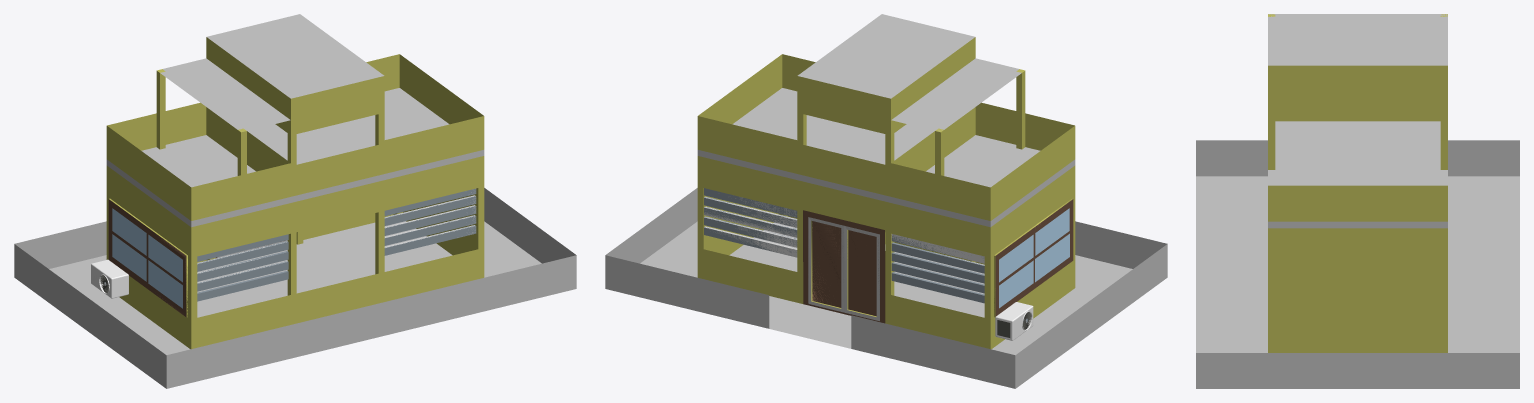
Rendered from BUILD 4.fbx.
The picture shows the model from 3 angles, left to right: view 1: azimuth 30°, elevation 25°; view 2: azimuth 150°, elevation 25°; view 3: azimuth 270°, elevation 25°; orthographic projection. The views are drawn at different scales.
Parts seen in each view (by area): view 1: 4_1, 4_2; view 2: 4_1, 4_2, Cube_18, Cube_15, Cube_11, AC_1, Cube_13, Cube_17; view 3: 4_2, 4_1.
Boxes of the visible parts, x1,y1,x2,y2 form: 4_1: (14,37,576,388); 4_2: (14,14,541,381); 4_1: (605,38,1167,388); 4_2: (605,14,1167,348); Cube_18: (891,234,984,263); Cube_15: (704,206,797,237); Cube_11: (704,226,797,257); AC_1: (995,302,1032,340); Cube_13: (704,217,797,247); Cube_17: (704,196,797,227); 4_2: (1196,17,1519,388); 4_1: (1196,14,1519,388).
Size of the model in its own units: 1400 by 760 by 900.
